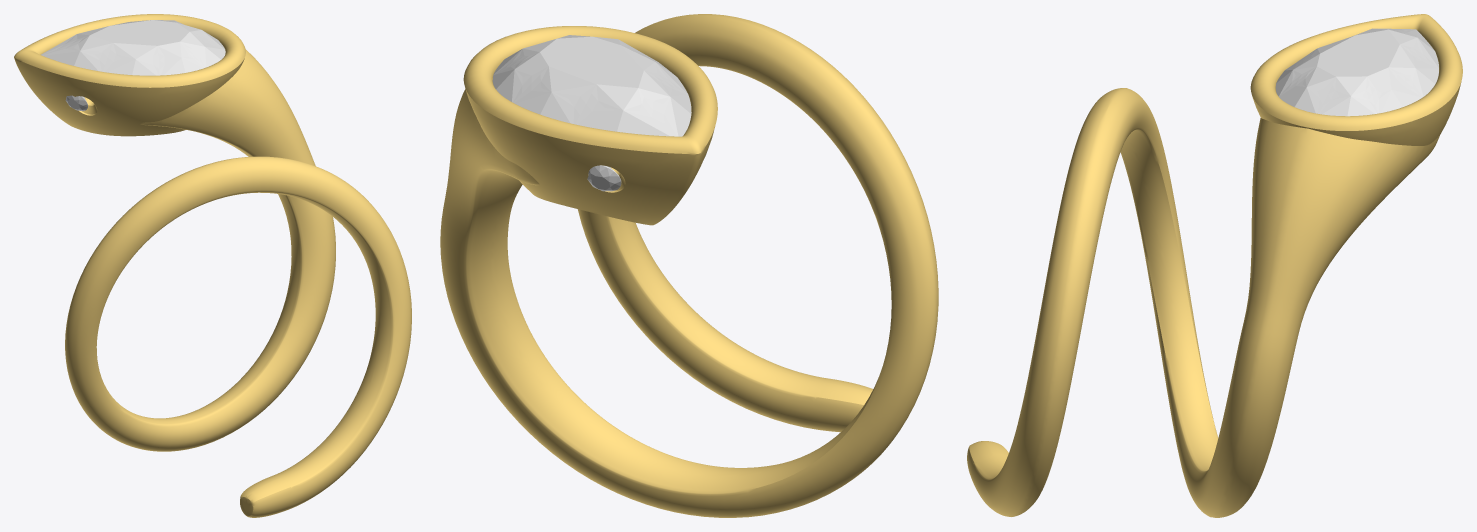
The model's file is OrielSnakeYG_blender.glb.
3 renders of one model, left to right at view 1: azimuth 30°, elevation 25°; view 2: azimuth 150°, elevation 25°; view 3: azimuth 270°, elevation 25°, orthographic. The views are drawn at different scales.
Visible parts, largest first — view 1: Oriel YG for 3d model, Oriel dia pear only for 3d model; view 2: Oriel YG for 3d model, Oriel dia pear only for 3d model, Oriel round dia for 3d model; view 3: Oriel YG for 3d model, Oriel dia pear only for 3d model.
Part boxes in pixels (<box>): Oriel YG for 3d model: <box>14,14,411,517</box>; Oriel dia pear only for 3d model: <box>41,20,225,75</box>; Oriel YG for 3d model: <box>440,14,938,517</box>; Oriel dia pear only for 3d model: <box>492,35,691,136</box>; Oriel round dia for 3d model: <box>587,165,621,191</box>; Oriel YG for 3d model: <box>967,14,1462,517</box>; Oriel dia pear only for 3d model: <box>1275,28,1438,116</box>.
Bounding box in the file's own units: 19.4 × 22.16 × 22.18.
